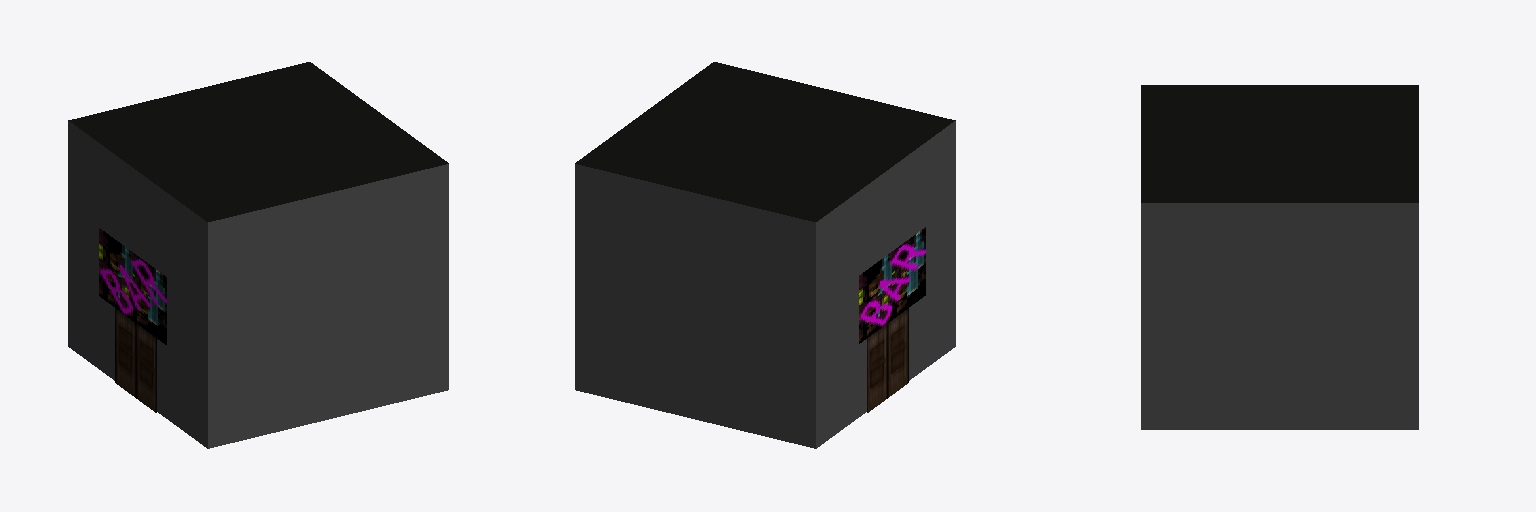
The picture shows the model from 3 angles: view 1: azimuth 30°, elevation 25°; view 2: azimuth 150°, elevation 25°; view 3: azimuth 270°, elevation 25°; orthographic projection.
Visible parts, largest first — view 1: shop3; view 2: shop3; view 3: shop3.
Part boxes in pixels (left/top/right/bottom): shop3: left=68, top=62, right=448, bottom=448; shop3: left=575, top=62, right=955, bottom=448; shop3: left=1141, top=85, right=1418, bottom=429.
Size of the model in its own units: 16.39 by 14.33 by 16.
Materials: 4 (2 with a texture image).